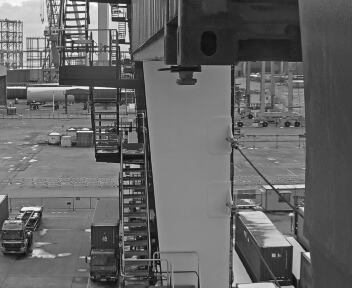twist_lock_1: (165, 57, 209, 97)
